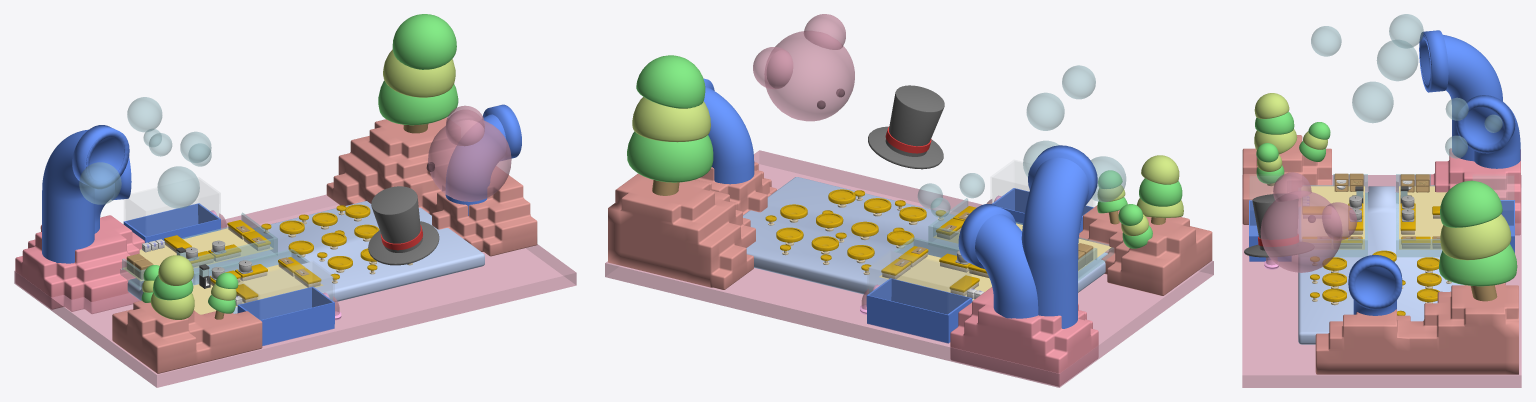
Rendered from world_stage02_250323_02.fbx.
3 views of the same model, side by side, from view 1: azimuth 30°, elevation 25°; view 2: azimuth 150°, elevation 25°; view 3: azimuth 270°, elevation 25° (orthographic). The views are drawn at different scales.
Visible parts, largest first — view 1: world_floor, map_floor, pipe01, tree01, JellyMachine_B, JellyBear, kitchen_floor, pipe02, hat, JellyMachine_A, JellyTable, tree02 (+8 smaller); view 2: world_floor, pipe01, map_floor, tree01, JellyBear, JellyMachine_A, hat, kitchen_floor, JellyTable, pipe02, tree02, JellyMachine_B (+10 smaller); view 3: world_floor, pipe01, map_floor, tree01, JellyBear, kitchen_floor, hat, pipe02, tree02, JellyTable, Bubble_02, Bubble_01 (+14 smaller).
Part boxes in pixels (bbox=[...]): world_floor: bbox=[14, 117, 576, 387]; map_floor: bbox=[127, 201, 484, 313]; pipe01: bbox=[42, 125, 131, 263]; tree01: bbox=[378, 14, 458, 133]; JellyMachine_B: bbox=[237, 261, 341, 345]; JellyBear: bbox=[426, 105, 511, 201]; kitchen_floor: bbox=[120, 212, 323, 314]; pipe02: bbox=[445, 104, 521, 215]; hat: bbox=[368, 186, 439, 265]; JellyMachine_A: bbox=[123, 177, 226, 242]; JellyTable: bbox=[279, 204, 379, 272]; tree02: bbox=[150, 255, 194, 319]; world_floor: bbox=[605, 150, 1213, 387]; pipe01: bbox=[958, 145, 1097, 328]; map_floor: bbox=[743, 177, 1107, 300]; tree01: bbox=[627, 55, 713, 195]; JellyBear: bbox=[753, 14, 854, 121]; JellyMachine_A: bbox=[860, 250, 972, 343]; hat: bbox=[868, 85, 944, 169]; kitchen_floor: bbox=[879, 198, 1113, 300]; JellyTable: bbox=[776, 189, 926, 263]; pipe02: bbox=[703, 78, 754, 184]; tree02: bbox=[1136, 155, 1183, 224]; JellyMachine_B: bbox=[986, 160, 1094, 232]; world_floor: bbox=[1242, 135, 1521, 387]; pipe01: bbox=[1419, 30, 1520, 168]; map_floor: bbox=[1298, 186, 1464, 344]; tree01: bbox=[1439, 180, 1517, 301]; JellyBear: bbox=[1260, 172, 1357, 272]; kitchen_floor: bbox=[1301, 174, 1446, 257]; hat: bbox=[1244, 194, 1314, 257]; pipe02: bbox=[1348, 255, 1402, 315]; tree02: bbox=[1254, 93, 1297, 154]; JellyTable: bbox=[1322, 250, 1441, 305]; Bubble_02: bbox=[1352, 81, 1393, 123]; Bubble_01: bbox=[1376, 40, 1418, 81].
Size of the model in its own units: 3400 by 1630 by 2000.
